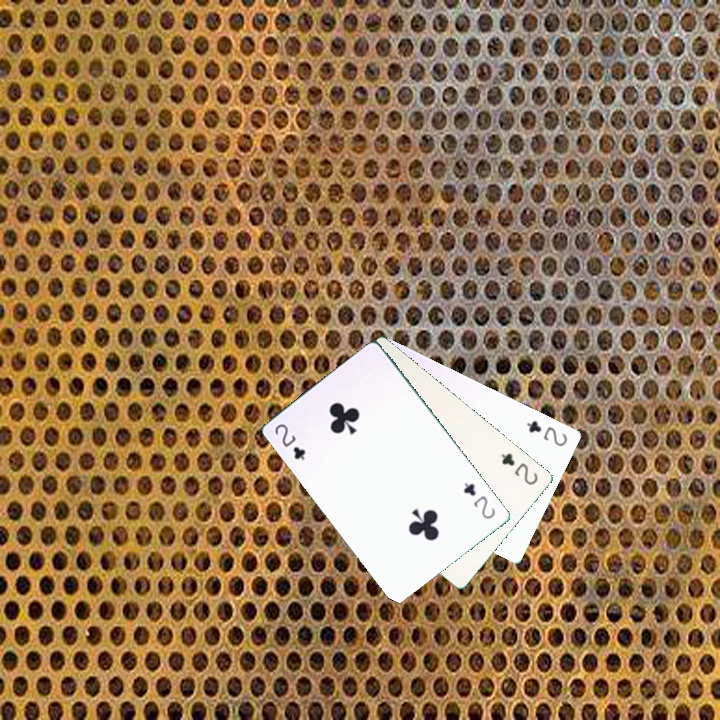2c: (497, 449, 541, 488), (459, 478, 498, 522), (270, 419, 308, 463), (522, 416, 570, 449)
